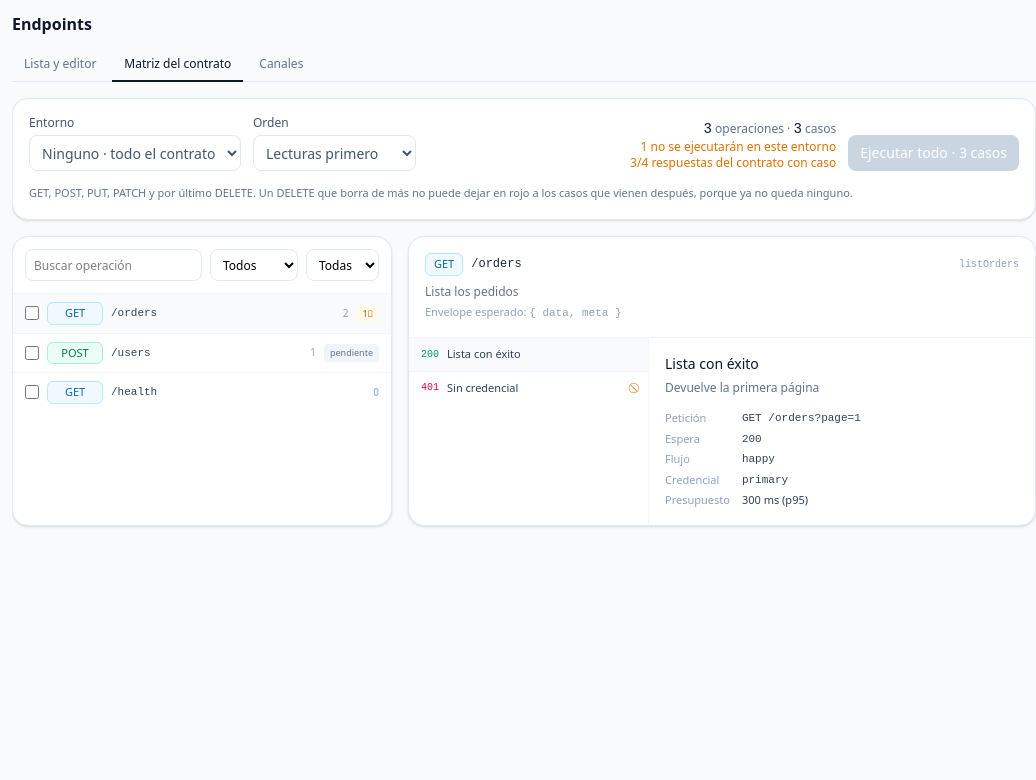
it: MatrixPage › elegir otra operación enseña su cuerpo, y una sin casos lo dice
Click the text "/users" at [131, 352], box [111,346,151,358]
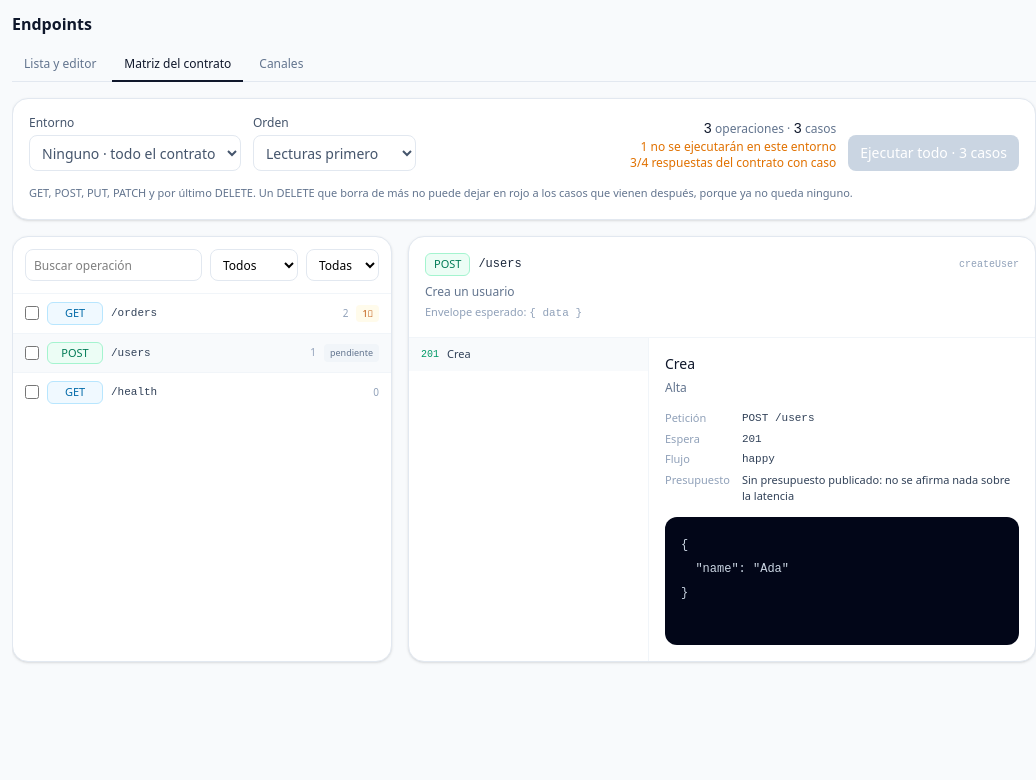
Expected: the text "Crea un usuario" is shown, [425,282,514,300]
Expected: the text "{ \"name\": \"Ada\" }" is shown, [681,538,789,600]
Click the text "/health" at [134, 392], box [111,386,157,398]
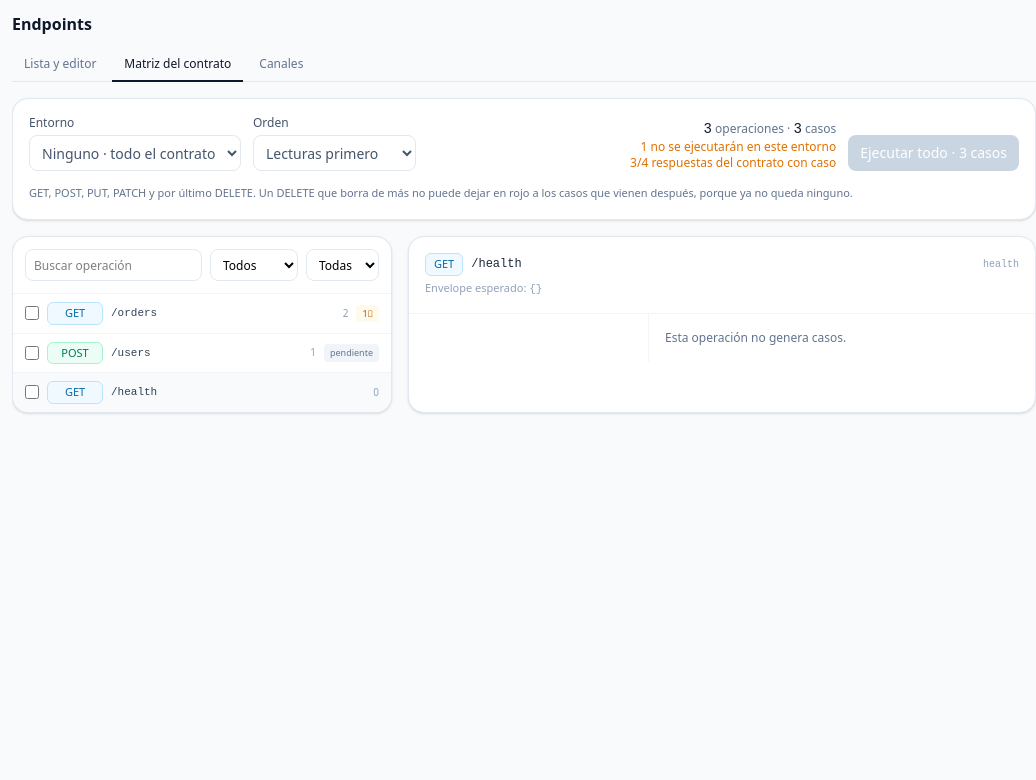
Expected: the text "Esta operación no genera casos." is shown, [665,329,846,346]
